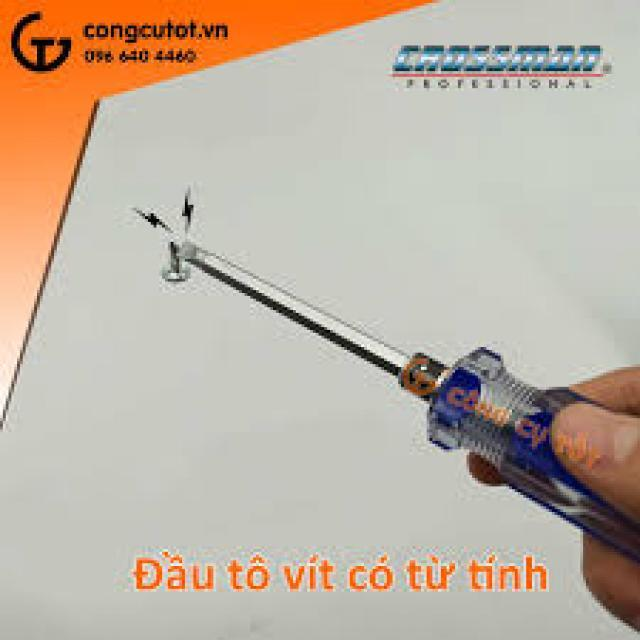screwdriver: (173, 237, 640, 556)
